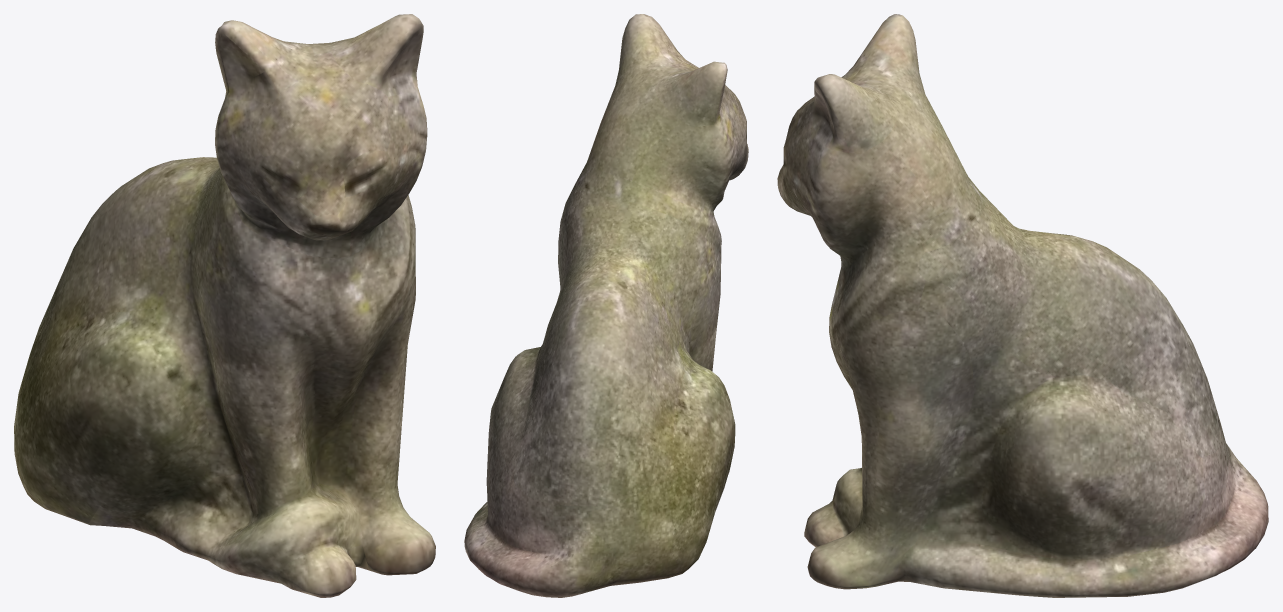
File: cat.glb
3 views of the same model, side by side, from view 1: azimuth 30°, elevation 25°; view 2: azimuth 150°, elevation 25°; view 3: azimuth 270°, elevation 25° (orthographic). The views are drawn at different scales.
Visible parts, largest first — view 1: concrete_cat_statue; view 2: concrete_cat_statue; view 3: concrete_cat_statue.
Part boxes in pixels (<box>): concrete_cat_statue: <box>14,14,435,597</box>; concrete_cat_statue: <box>464,14,748,597</box>; concrete_cat_statue: <box>777,14,1268,597</box>.
Bounding box in the file's own units: 0.153 × 0.283 × 0.25.
Materials: 1 (1 with a texture image).
